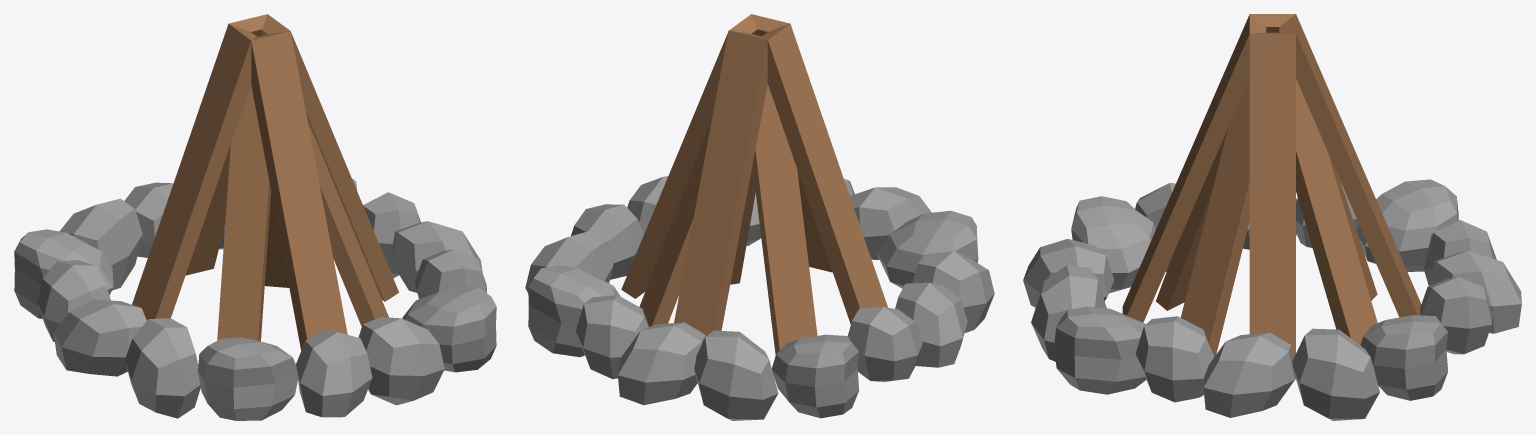
Rendered from feu de camp.fbx.
3 renders of one model, left to right at view 1: azimuth 30°, elevation 25°; view 2: azimuth 150°, elevation 25°; view 3: azimuth 270°, elevation 25°, orthographic. The views are drawn at different scales.
Visible parts, largest first — view 1: Cube.012; view 2: Cube.012; view 3: Cube.012.
Part boxes in pixels (x1,y1,x2,y2): Cube.012: [14, 14, 496, 420]; Cube.012: [525, 14, 994, 420]; Cube.012: [1023, 14, 1521, 420].
Size of the model in its own units: 347 by 258 by 367.
